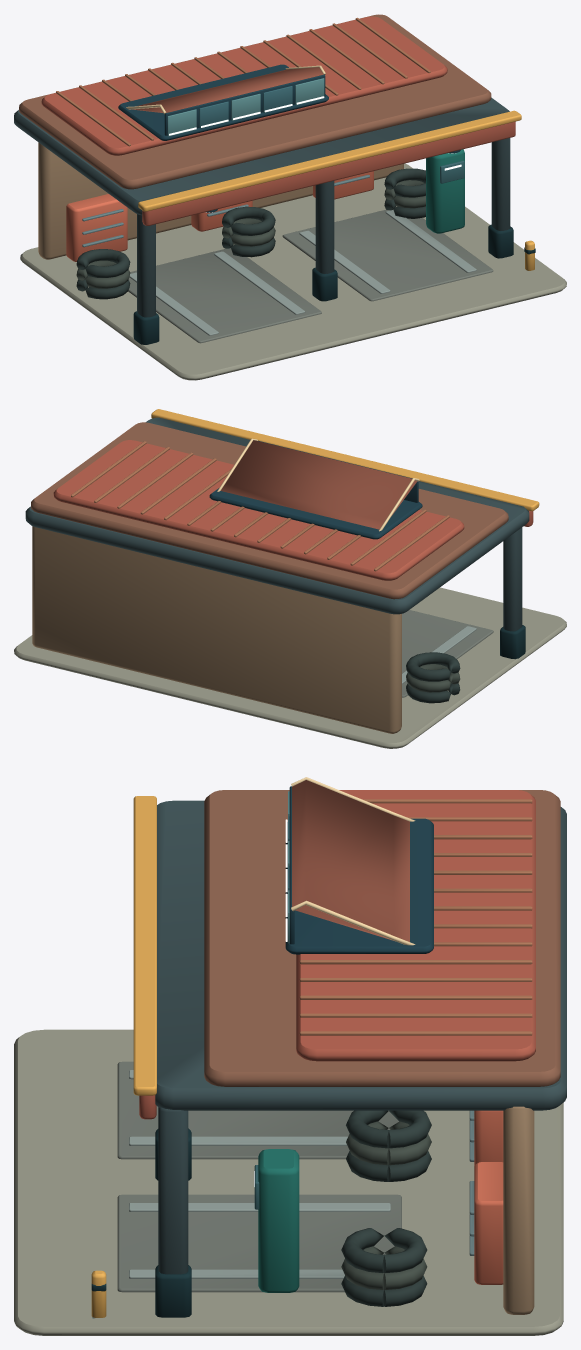
The model's file is tire_shop.glb.
3 views of the same model, one above another, from view 1: azimuth 30°, elevation 25°; view 2: azimuth 150°, elevation 25°; view 3: azimuth 270°, elevation 25° (orthographic). The views are drawn at different scales.
Visible parts, largest first — view 1: tire_shop; view 2: tire_shop; view 3: tire_shop.
Boxes of the visible parts, <box> form: tire_shop: <box>14,14,566,380</box>; tire_shop: <box>14,409,566,748</box>; tire_shop: <box>14,777,566,1335</box>.
Size of the model in its own units: 7.9 by 3.78 by 6.09.
